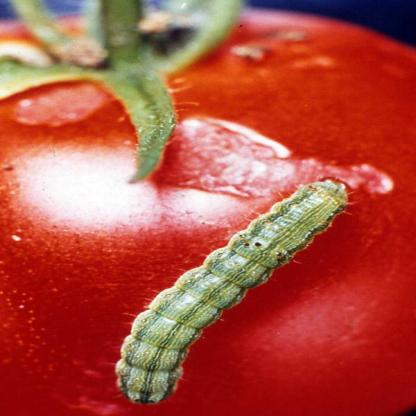armyworm: (57, 163, 407, 416)
